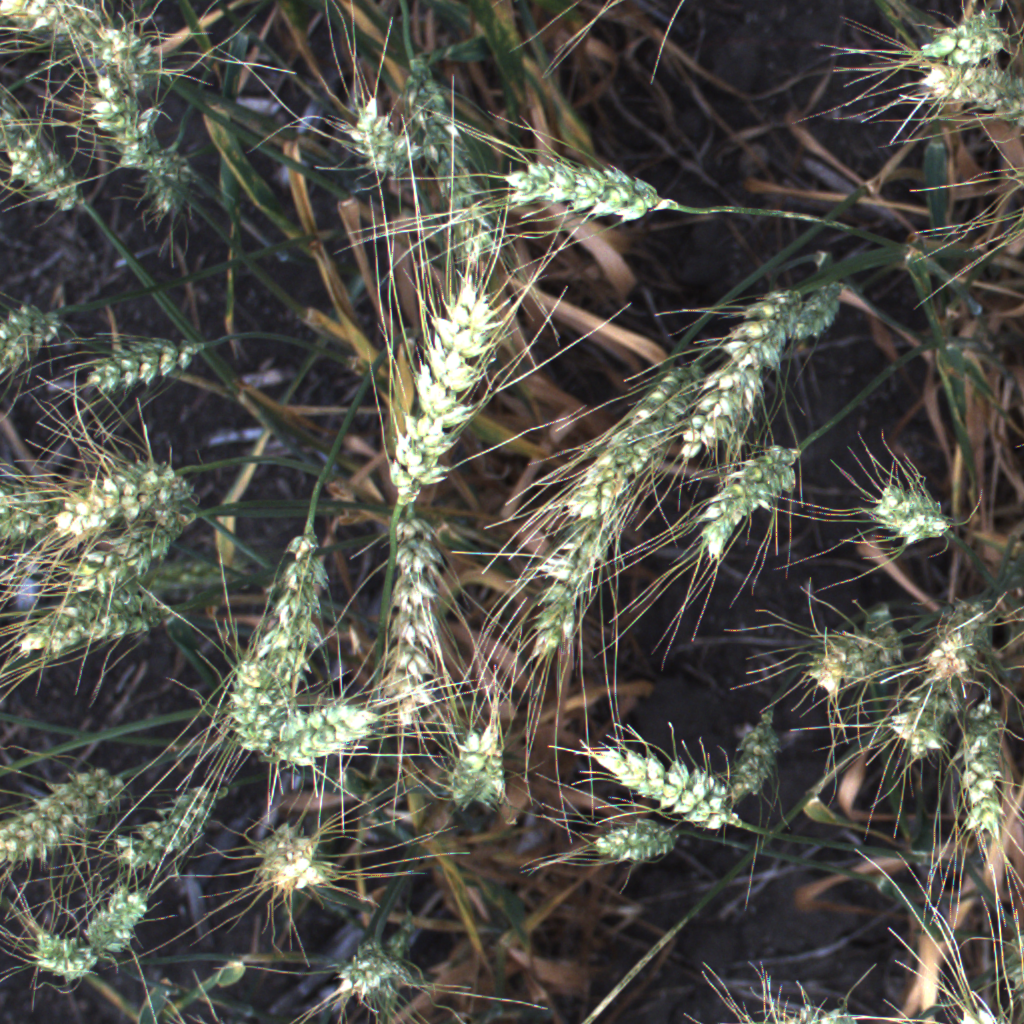wheat_head: (388, 262, 519, 518), (557, 343, 710, 527), (673, 272, 821, 457), (227, 523, 340, 745), (397, 47, 504, 259), (525, 484, 645, 665), (370, 512, 463, 732), (77, 33, 197, 194), (579, 727, 745, 839), (673, 434, 813, 562), (0, 744, 125, 885), (48, 501, 207, 599), (46, 452, 200, 547), (492, 148, 677, 226), (107, 771, 234, 884), (10, 581, 183, 659), (0, 104, 99, 220), (945, 698, 1019, 851), (0, 0, 146, 76), (243, 698, 388, 772), (75, 330, 214, 399), (908, 4, 1023, 83), (241, 817, 334, 905), (858, 476, 953, 561), (902, 56, 1024, 122), (81, 875, 155, 971), (722, 702, 793, 801), (780, 268, 858, 358), (343, 92, 416, 184), (0, 287, 70, 381), (796, 630, 875, 707), (19, 922, 112, 987), (590, 809, 693, 866), (445, 718, 504, 815), (915, 617, 992, 691), (330, 937, 413, 1004), (0, 476, 75, 542), (886, 692, 947, 765)
